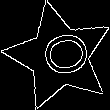O_W: (29, 30, 89, 83)
